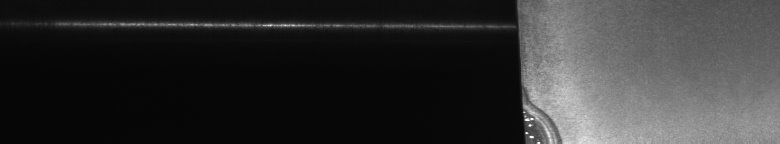hb: (532, 104, 560, 136)
